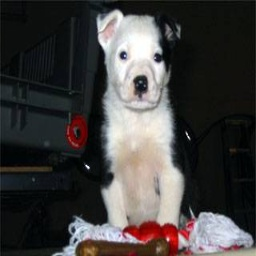dog: (74, 7, 198, 241)
